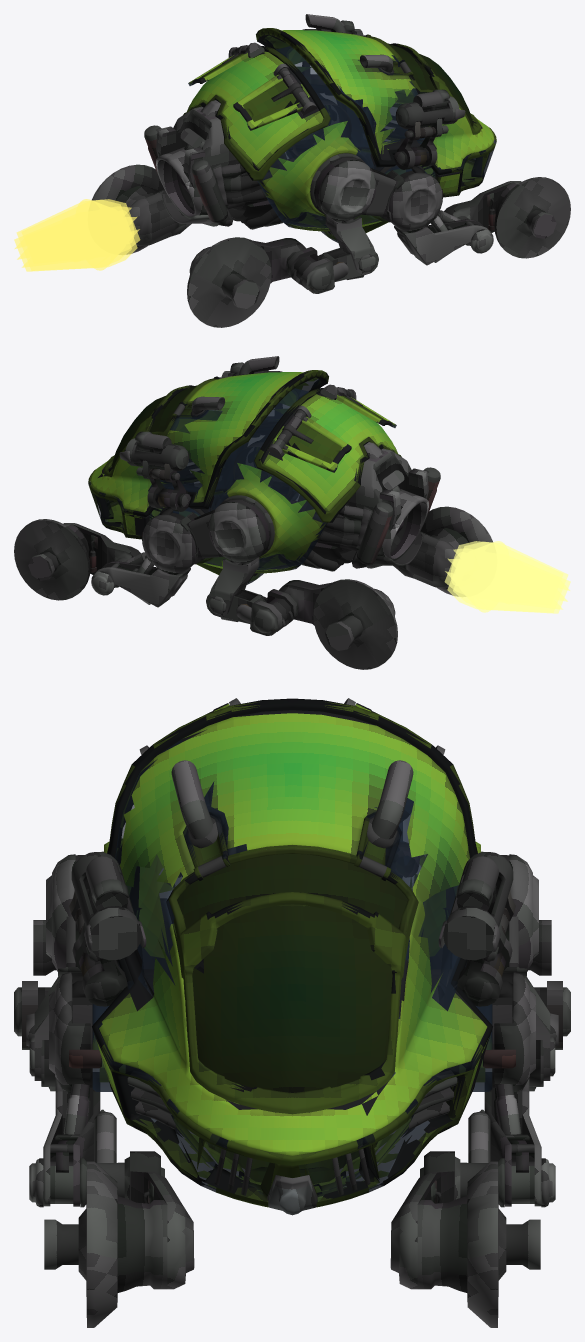
Rendered from Scarab_DetailedMaterials.glb.
The picture shows the model from 3 angles, top to bottom: view 1: azimuth 30°, elevation 25°; view 2: azimuth 150°, elevation 25°; view 3: azimuth 270°, elevation 25°; orthographic projection. The views are drawn at different scales.
Visible parts, largest first — view 1: Scarab_DetailedMaterials; view 2: Scarab_DetailedMaterials; view 3: Scarab_DetailedMaterials.
Part boxes in pixels (x1=…): Scarab_DetailedMaterials: x1=14, y1=14, x2=570, y2=327; Scarab_DetailedMaterials: x1=14, y1=356, x2=570, y2=669; Scarab_DetailedMaterials: x1=14, y1=698, x2=570, y2=1327.
Bounding box in the file's own units: 1.5 × 0.662 × 0.7591.
6 materials, 5 textured.
